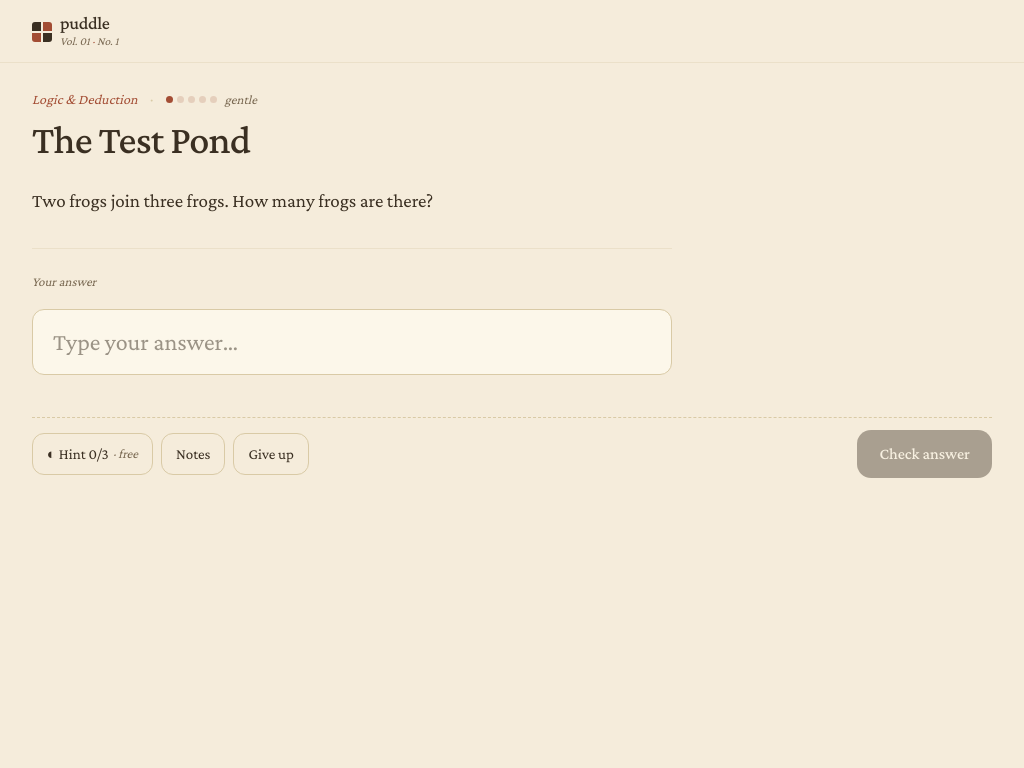
Test: reveals hints progressively without giving away future hints
Expected: the text "Count the first pair." is not shown
Click the button "◐ Hint 0/3 · free" at (92, 454), box [32, 433, 153, 475]
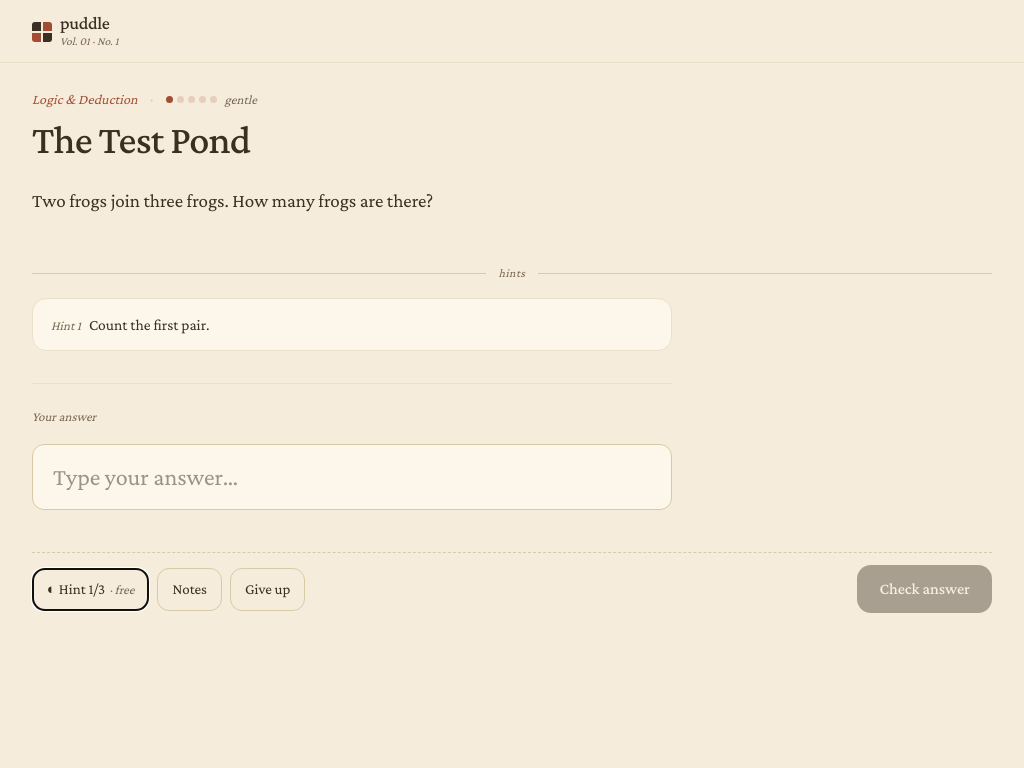
Now the text "Count the first pair." is shown, box [89, 316, 209, 333]
